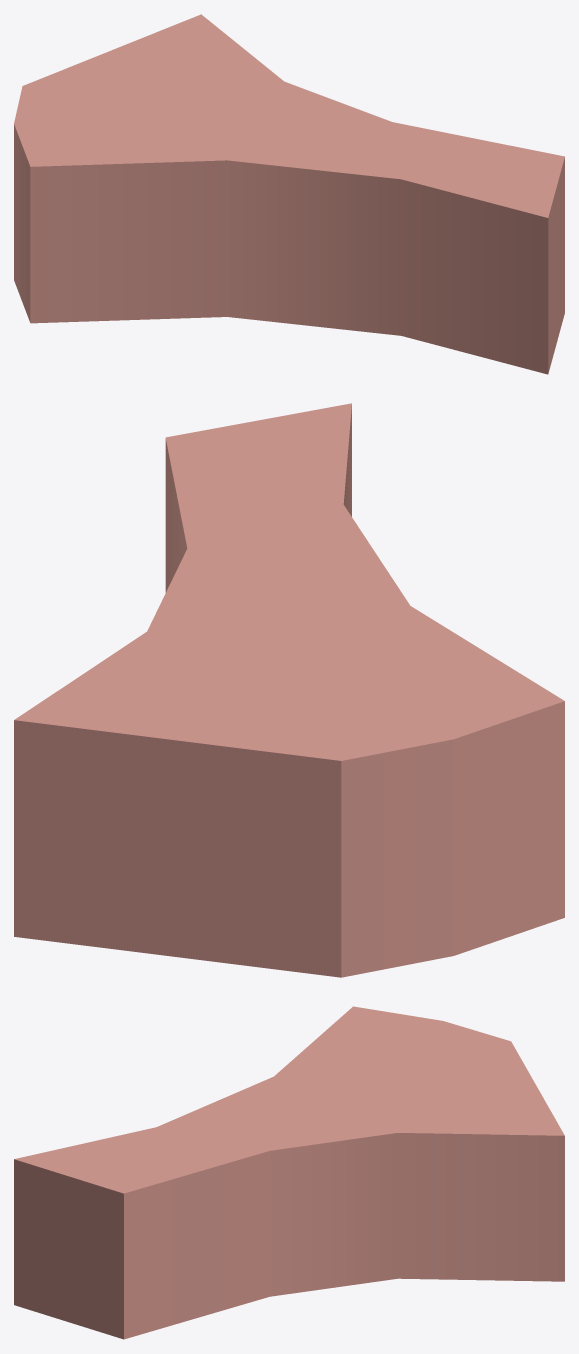
File: taoyuan.glb
3 views of the same model, one above another, from view 1: azimuth 30°, elevation 25°; view 2: azimuth 150°, elevation 25°; view 3: azimuth 270°, elevation 25° (orthographic). The views are drawn at different scales.
Parts seen in each view (by area): view 1: map_geo Taoyuan_geo; view 2: map_geo Taoyuan_geo; view 3: map_geo Taoyuan_geo.
Part boxes in pixels (left/top/right/bottom): map_geo Taoyuan_geo: left=14, top=14, right=564, bottom=374; map_geo Taoyuan_geo: left=14, top=403, right=564, bottom=977; map_geo Taoyuan_geo: left=14, top=1006, right=564, bottom=1339.
Bounding box in the file's own units: 0.7651 × 0.2781 × 0.9517.
1 material, 1 textured.
